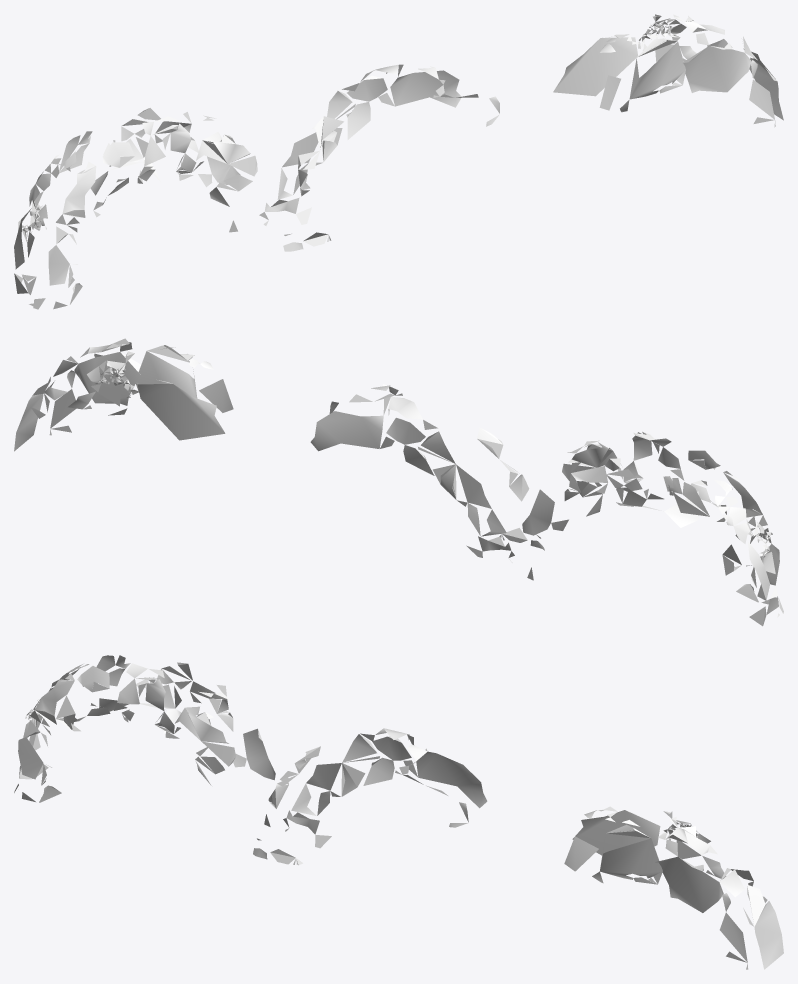
3 renders of one model, top to bottom at view 1: azimuth 30°, elevation 25°; view 2: azimuth 150°, elevation 25°; view 3: azimuth 330°, elevation 25°, orthographic.
Bounding box in the file's own units: 1.94 × 0.3776 × 0.173.
1 material, 1 textured.
